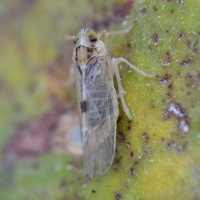insect: (73, 28, 158, 177)
